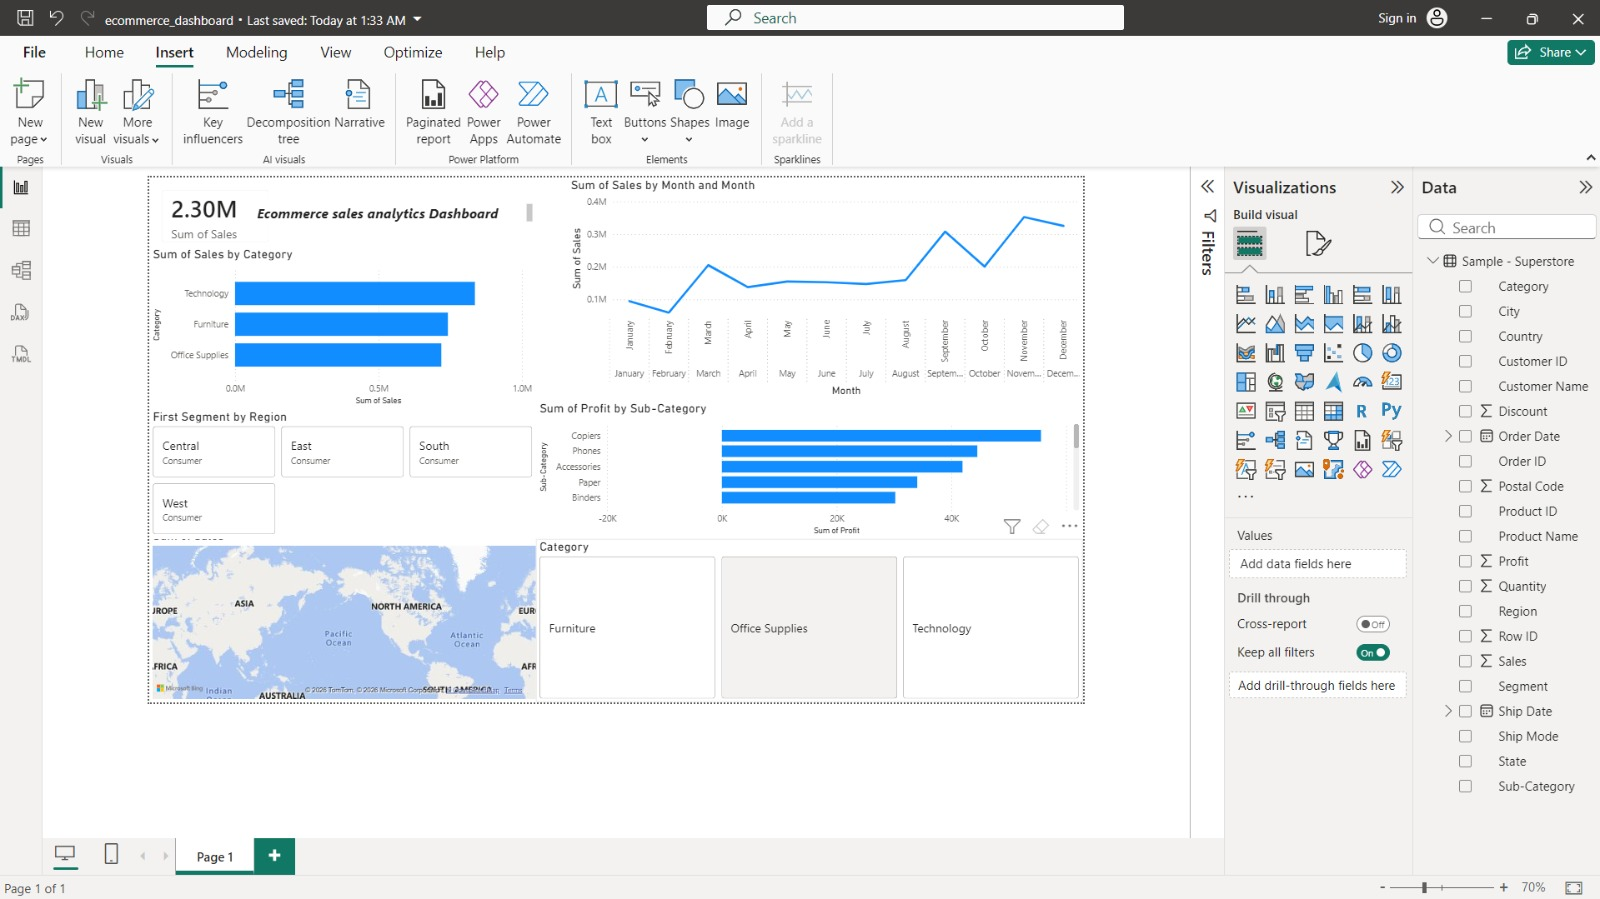

The page's visual inventory and layout, read from the dashboard file:
{"tool":"powerbi","page":{"name":"Page 1","canvas":[1280,720],"ordinal":0},"visuals":[{"type":"cardVisual","fields":{"Data":["Sum(Sample - Superstore.Sales)"]},"box":[0,0,181.7,106.7],"z":0},{"type":"clusteredBarChart","fields":{"Category":["Sample - Superstore.Category"],"Y":["Sum(Sample - Superstore.Sales)"]},"box":[0,94.3,530,222.9],"z":1000},{"type":"lineChart","fields":{"Category":["Sample - Superstore.Order Date.Variation.Date Hierarchy.Month","Sample - Superstore.Order Date.Variation.Date Hierarchy.Month"],"Y":["Sum(Sample - Superstore.Sales)"]},"box":[572.9,0,707.1,305.7],"z":2000},{"type":"barChart","fields":{"Category":["Sample - Superstore.Sub-Category"],"Y":["Sum(Sample - Superstore.Profit)"]},"box":[530,305.7,750,190],"z":3000},{"type":"map","fields":{"Size":["Sum(Sample - Superstore.Sales)"]},"box":[0,481.4,541.4,238.6],"z":4000},{"type":"advancedSlicerVisual","fields":{"Values":["Sample - Superstore.Region"],"Label":["Min(Sample - Superstore.Segment)"]},"box":[0,317,530,179],"z":4002},{"type":"advancedSlicerVisual","fields":{"Values":["Sample - Superstore.Category"]},"box":[530,495.7,750,224.3],"z":4003},{"type":"textbox","box":[142.9,31.4,387.1,34.3],"z":4005}]}

Visuals, with their boxes on the page's 1280x720 design canvas (x1, y1, x2, y2). These are canvas units, not pixel positions in the 1600x899 screenshot, which may show the page scaled, cropped or inside an application window:
cardVisual - Sum(Sample - Superstore.Sales): box(0, 0, 182, 107)
clusteredBarChart - Sample - Superstore.Category x Sum(Sample - Superstore.Sales): box(0, 94, 530, 317)
lineChart - Sample - Superstore.Order Date.Variation.Date Hierarchy.Month x Sample - Superstore.Order Date.Variation.Date Hierarchy.Month: box(573, 0, 1280, 306)
barChart - Sample - Superstore.Sub-Category x Sum(Sample - Superstore.Profit): box(530, 306, 1280, 496)
map - Sum(Sample - Superstore.Sales): box(0, 481, 541, 720)
advancedSlicerVisual - Sample - Superstore.Region x Min(Sample - Superstore.Segment): box(0, 317, 530, 496)
advancedSlicerVisual - Sample - Superstore.Category: box(530, 496, 1280, 720)
textbox: box(143, 31, 530, 66)
